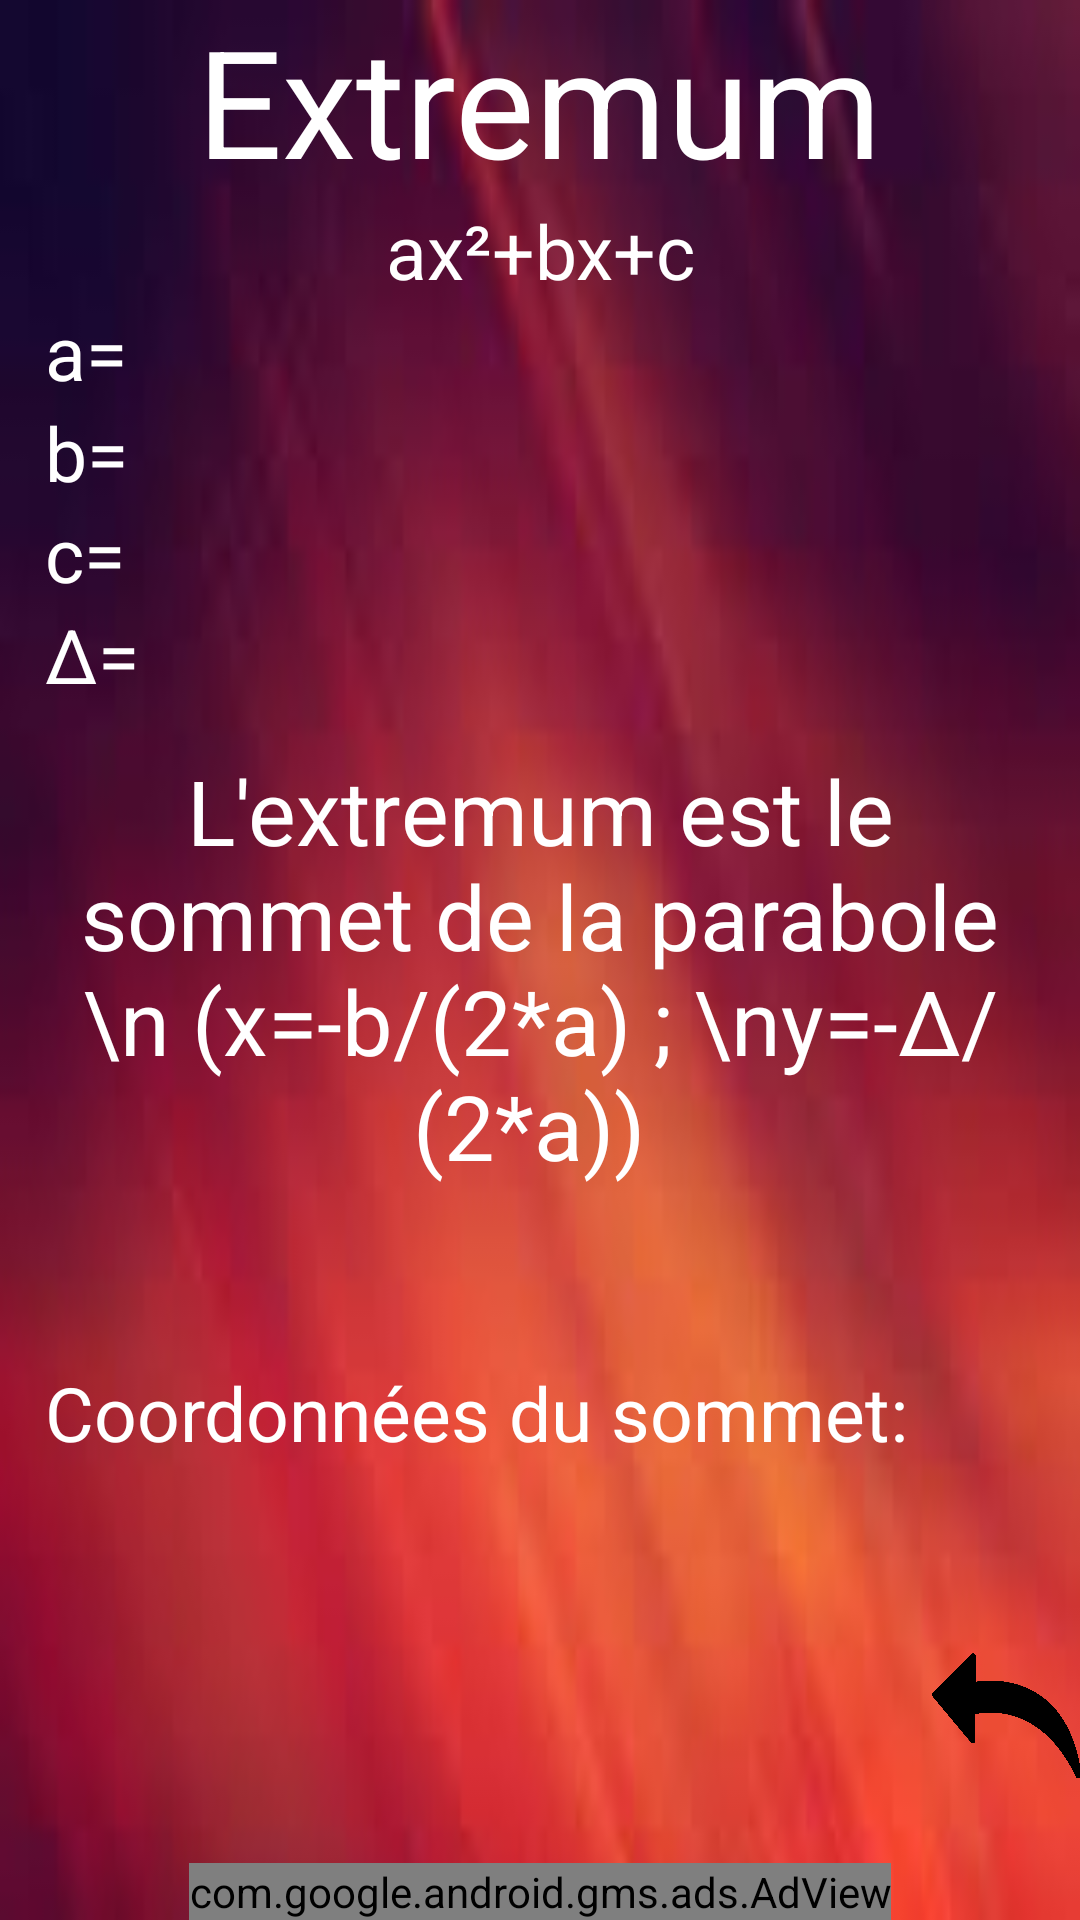

Named icons in this screenshot (1080x1920) and their centers, (x=x, y=y):
retour: (x=1006, y=1715)
